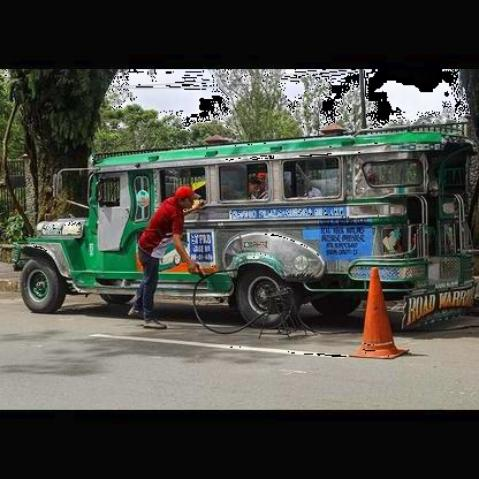jeepney: (18, 117, 479, 335)
